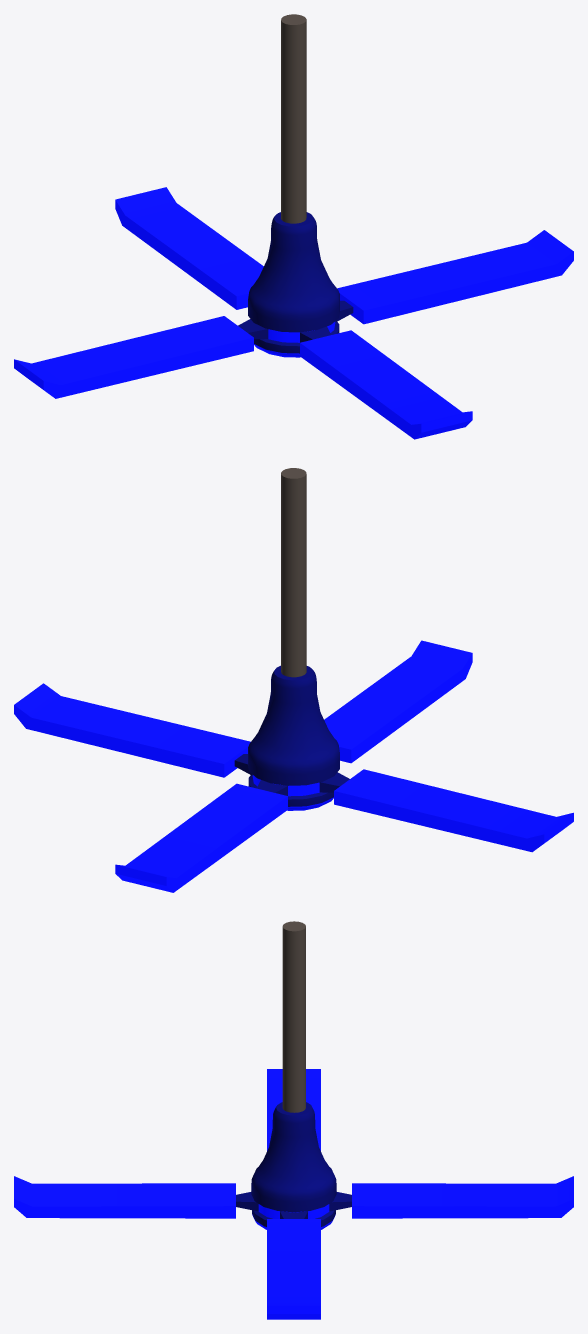
File: fan13.glb
3 renders of one model, top to bottom at view 1: azimuth 30°, elevation 25°; view 2: azimuth 150°, elevation 25°; view 3: azimuth 270°, elevation 25°, orthographic. The views are drawn at different scales.
Visible parts, largest first — view 1: Fan13_Tris; view 2: Fan13_Tris; view 3: Fan13_Tris.
Part boxes in pixels (x1,y1,x2,y2): Fan13_Tris: [14, 14, 573, 439]; Fan13_Tris: [14, 468, 573, 892]; Fan13_Tris: [14, 921, 573, 1319].
Bounding box in the file's own units: 3.39 × 1.96 × 3.39.
